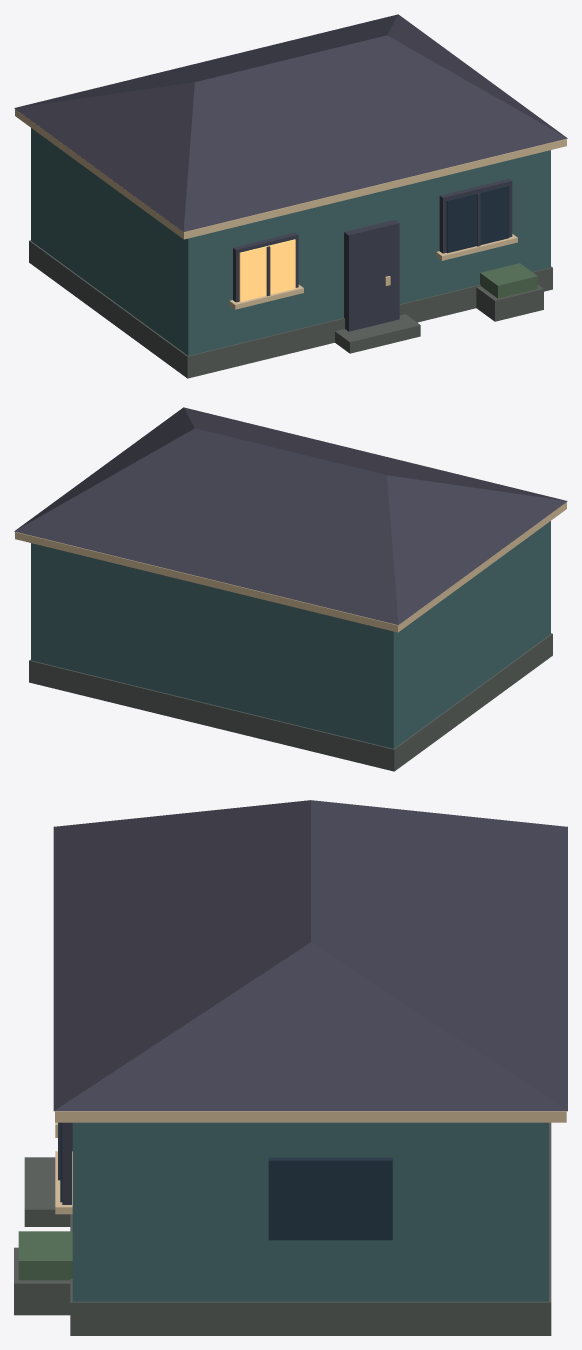
File: casa_azulada.glb
3 views of the same model, one above another, from view 1: azimuth 30°, elevation 25°; view 2: azimuth 150°, elevation 25°; view 3: azimuth 270°, elevation 25° (orthographic). The views are drawn at different scales.
Visible parts, largest first — view 1: casa_azulada; view 2: casa_azulada; view 3: casa_azulada.
Boxes of the visible parts, x1,y1,x2,y2 form: casa_azulada: (14, 14, 567, 378); casa_azulada: (14, 407, 567, 771); casa_azulada: (14, 800, 567, 1335).
Bounding box in the file's own units: 8.48 × 4.58 × 6.98.
